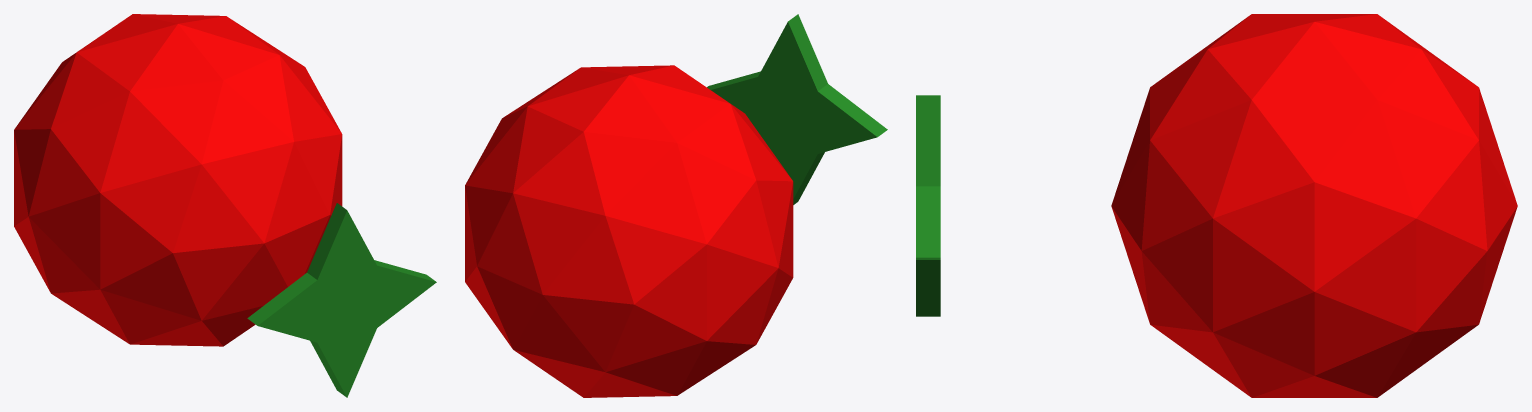
The model's file is nil_link_mesh.dae.
3 renders of one model, left to right at view 1: azimuth 30°, elevation 25°; view 2: azimuth 150°, elevation 25°; view 3: azimuth 270°, elevation 25°, orthographic. The views are drawn at different scales.
Visible parts, largest first — view 1: nil_link (×2); view 2: nil_link (×2); view 3: nil_link (×2).
Boxes of the visible parts, x1=… form: nil_link (×2): x1=14, y1=14, x2=436, y2=397; nil_link (×2): x1=465, y1=14, x2=887, y2=397; nil_link (×2): x1=916, y1=14, x2=1517, y2=397.
Bounding box in the file's own units: 0.05 × 0.05 × 0.074.
